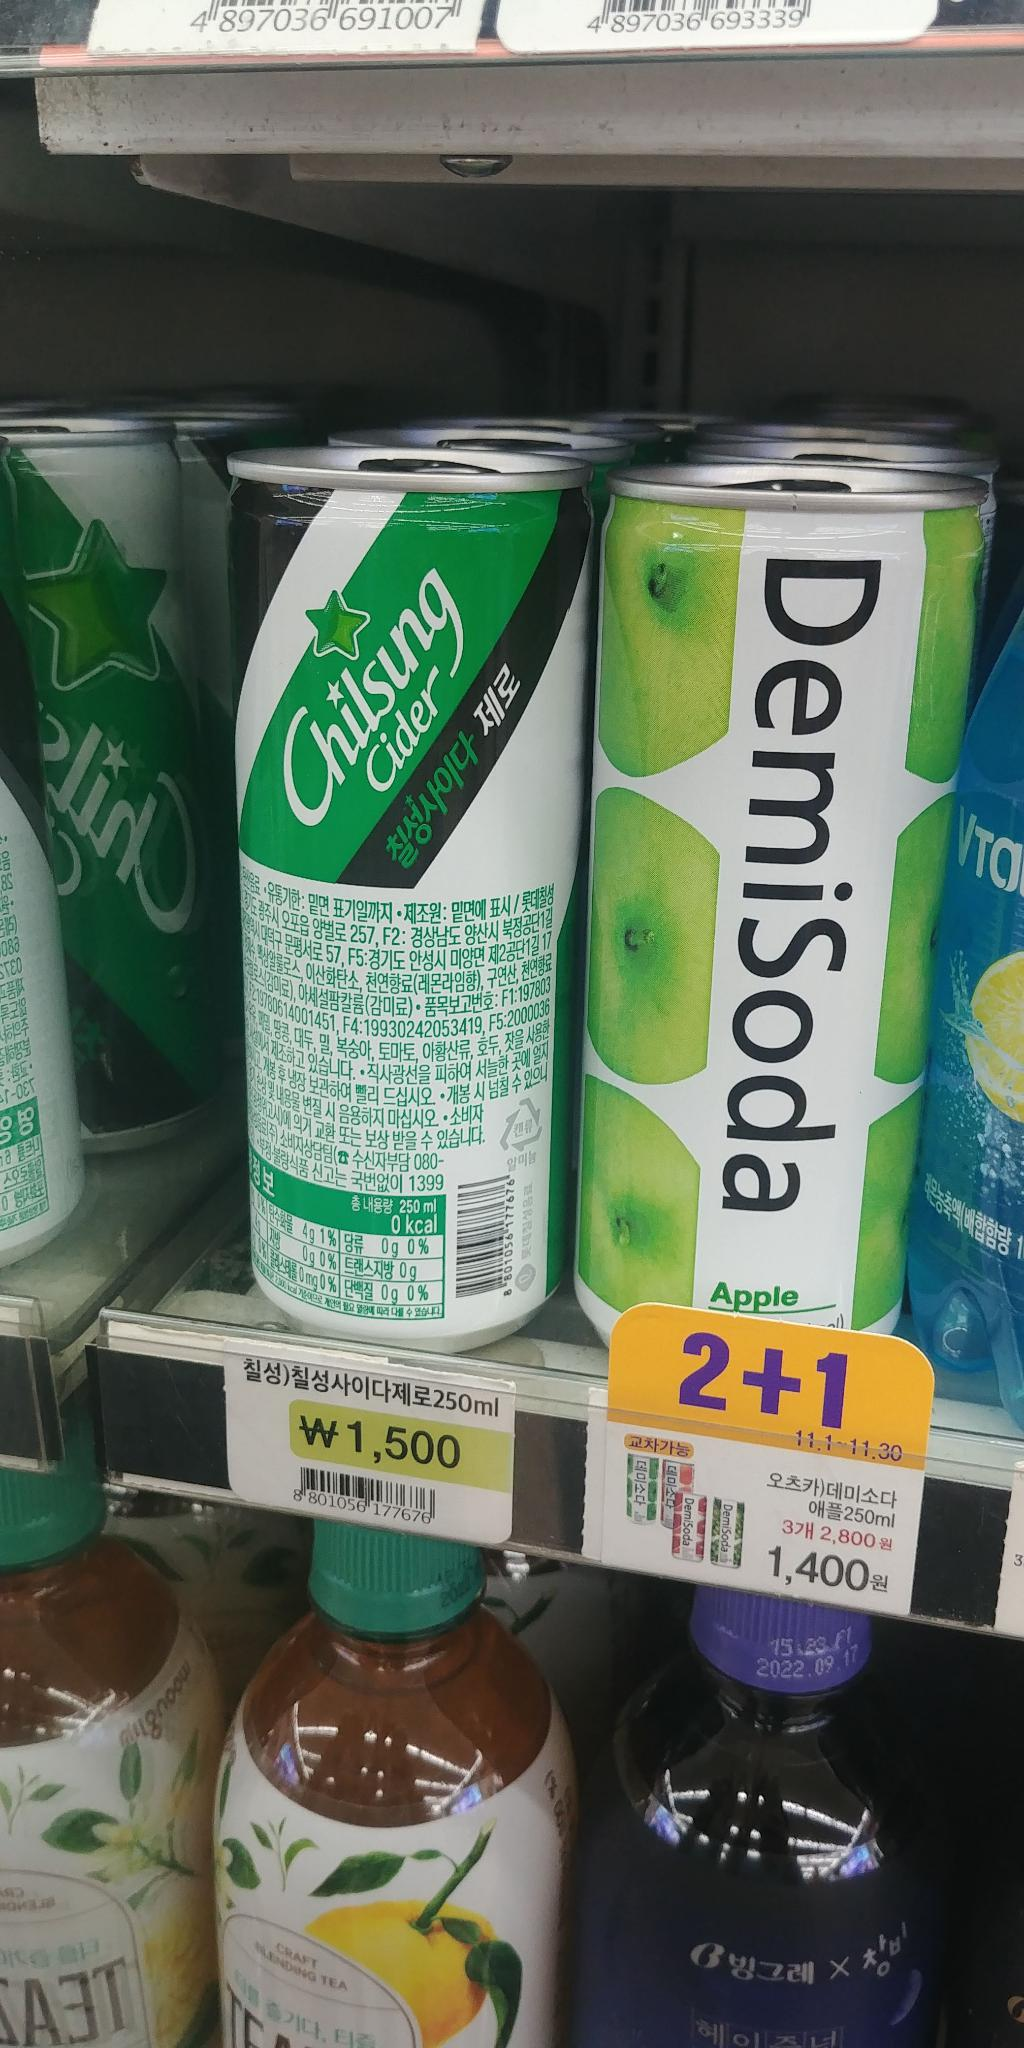chilsungcider_zero: (205, 426, 593, 1358)
